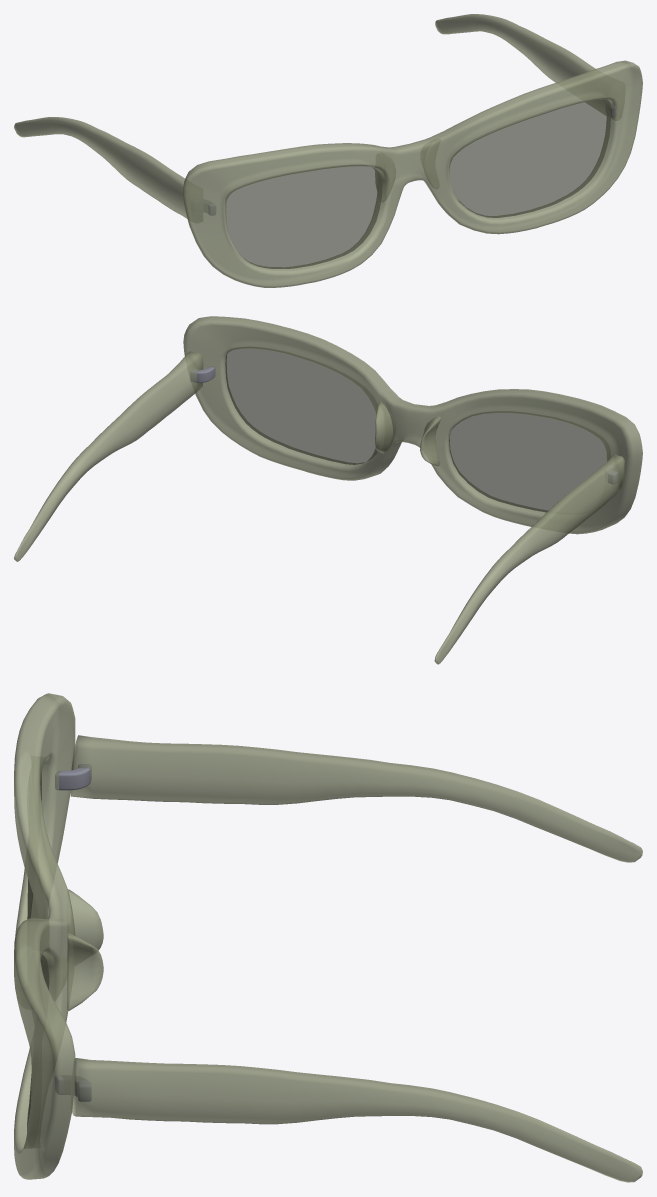
Rendered from pandan.glb.
3 views of the same model, one above another, from view 1: azimuth 30°, elevation 25°; view 2: azimuth 150°, elevation 25°; view 3: azimuth 270°, elevation 25° (orthographic). The views are drawn at different scales.
Visible parts, largest first — view 1: model_1; view 2: model_1; view 3: model_1.
Part boxes in pixels (x1,y1,x2,y2): model_1: [14, 14, 642, 287]; model_1: [14, 316, 642, 664]; model_1: [14, 693, 642, 1182].
Bounding box in the file's own units: 2.26 × 0.6412 × 1.72.
